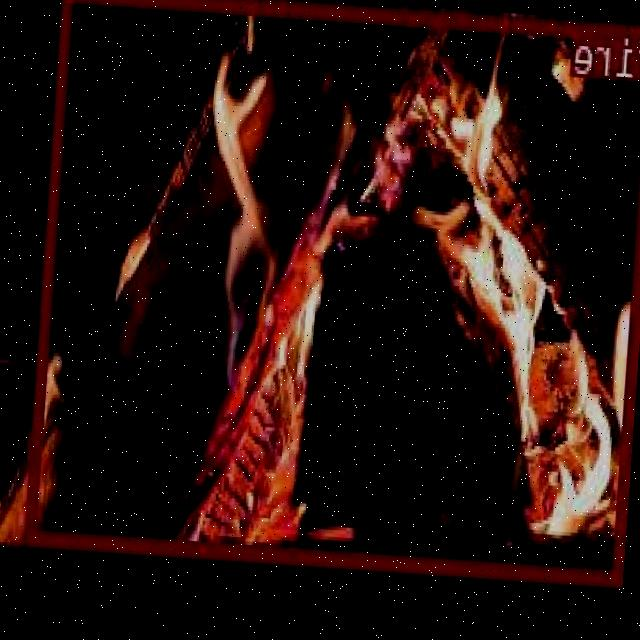fire: (28, 0, 640, 581)
